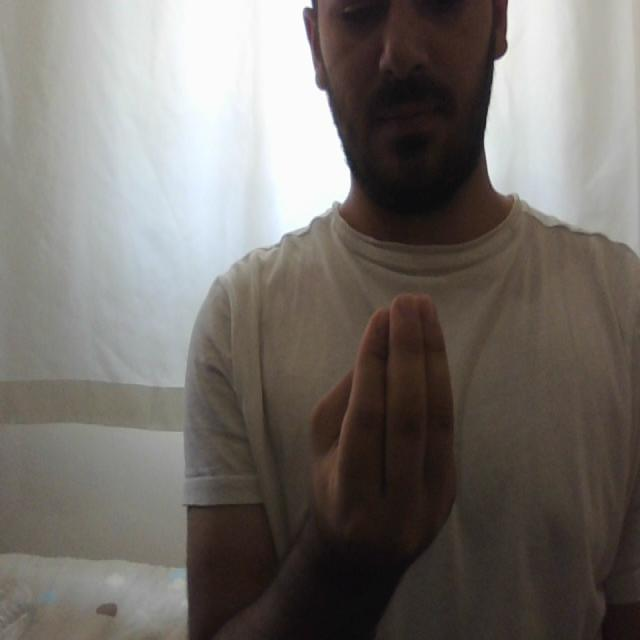iyi: (301, 292, 464, 557)
